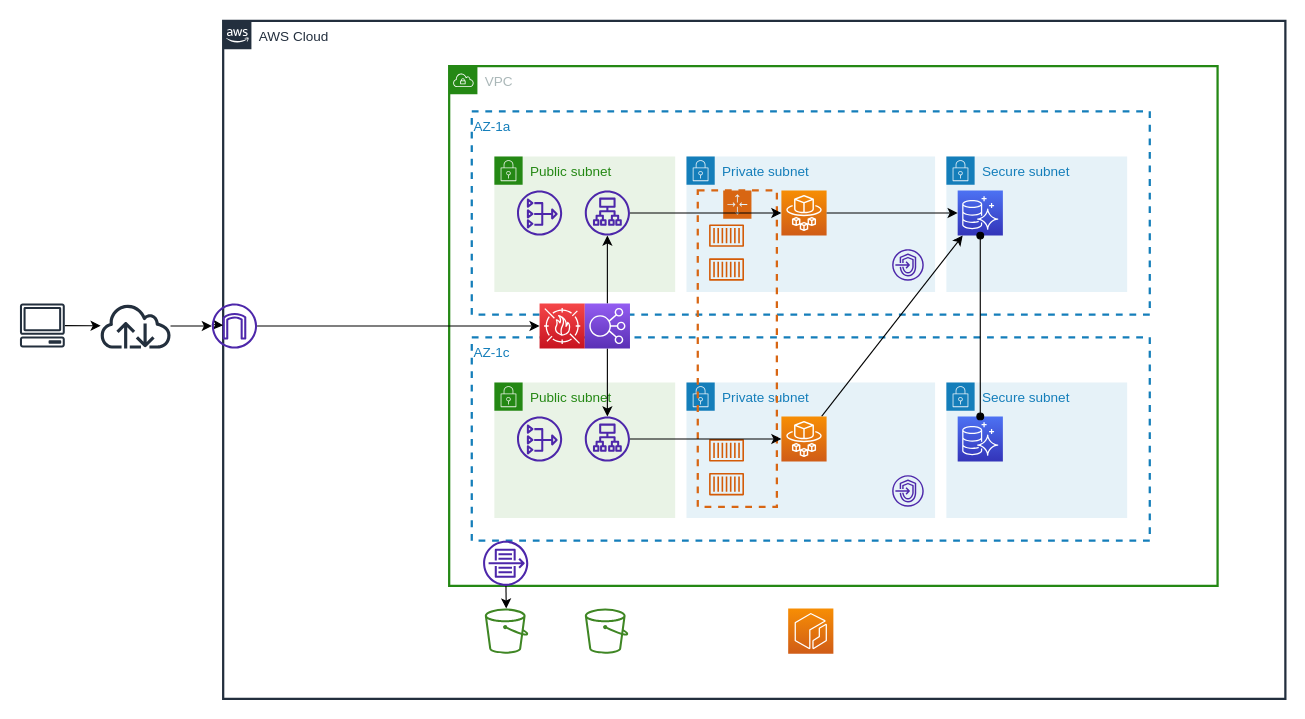
Image size: 1305x719. Some labels were removed from this diagram. Here are the shapes that lost their labels. From the top down, the centre of each, then its label:
the point at 506,630: FlowLog格納用
the point at 606,630: ALB AccessLog 格納用
